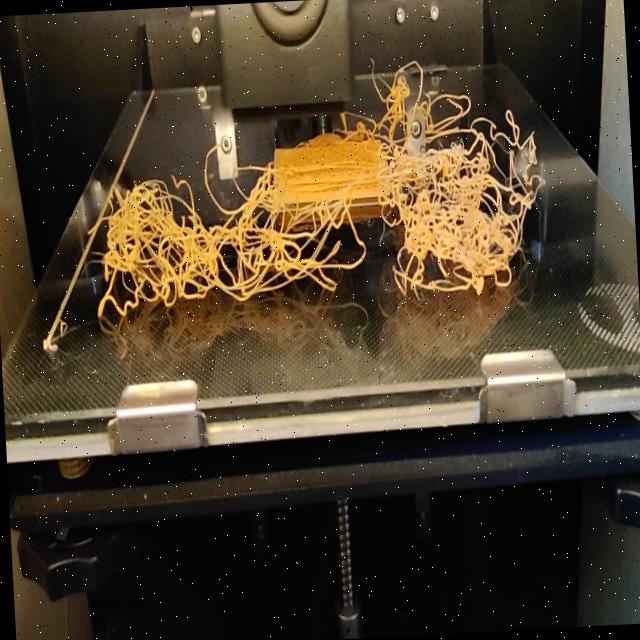spaghetti: (80, 110, 550, 320), (360, 48, 479, 119)
